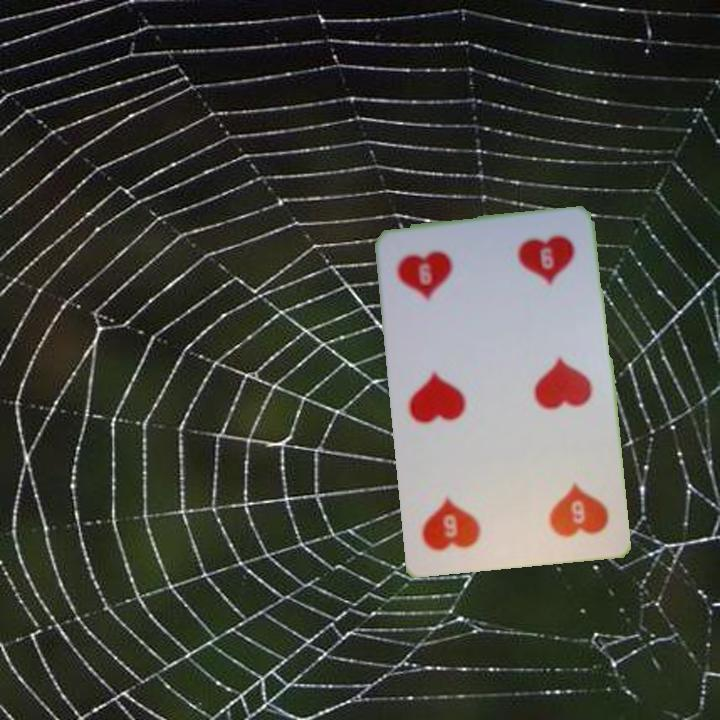h_6.png: (506, 457, 614, 552), (390, 231, 497, 326)
